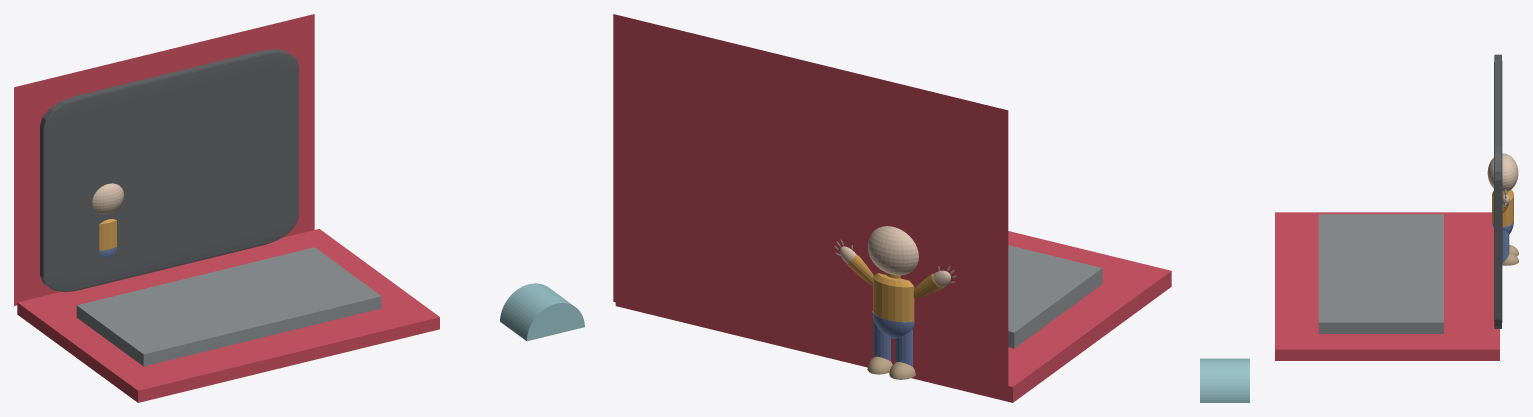
Rendered from asset.glb.
3 views of the same model, side by side, from view 1: azimuth 30°, elevation 25°; view 2: azimuth 150°, elevation 25°; view 3: azimuth 270°, elevation 25° (orthographic). The views are drawn at different scales.
Parts seen in each view (by area): view 1: Mesh_Mesh_head_geo.001_lambert2SG.001; view 2: Mesh_Mesh_head_geo.001_lambert2SG.001; view 3: Mesh_Mesh_head_geo.001_lambert2SG.001.
Part boxes in pixels (x1,y1,x2,y2): Mesh_Mesh_head_geo.001_lambert2SG.001: (14,14,584,402); Mesh_Mesh_head_geo.001_lambert2SG.001: (613,14,1171,402); Mesh_Mesh_head_geo.001_lambert2SG.001: (1200,54,1518,402).
Size of the model in its own units: 70 by 37 by 51.01.
